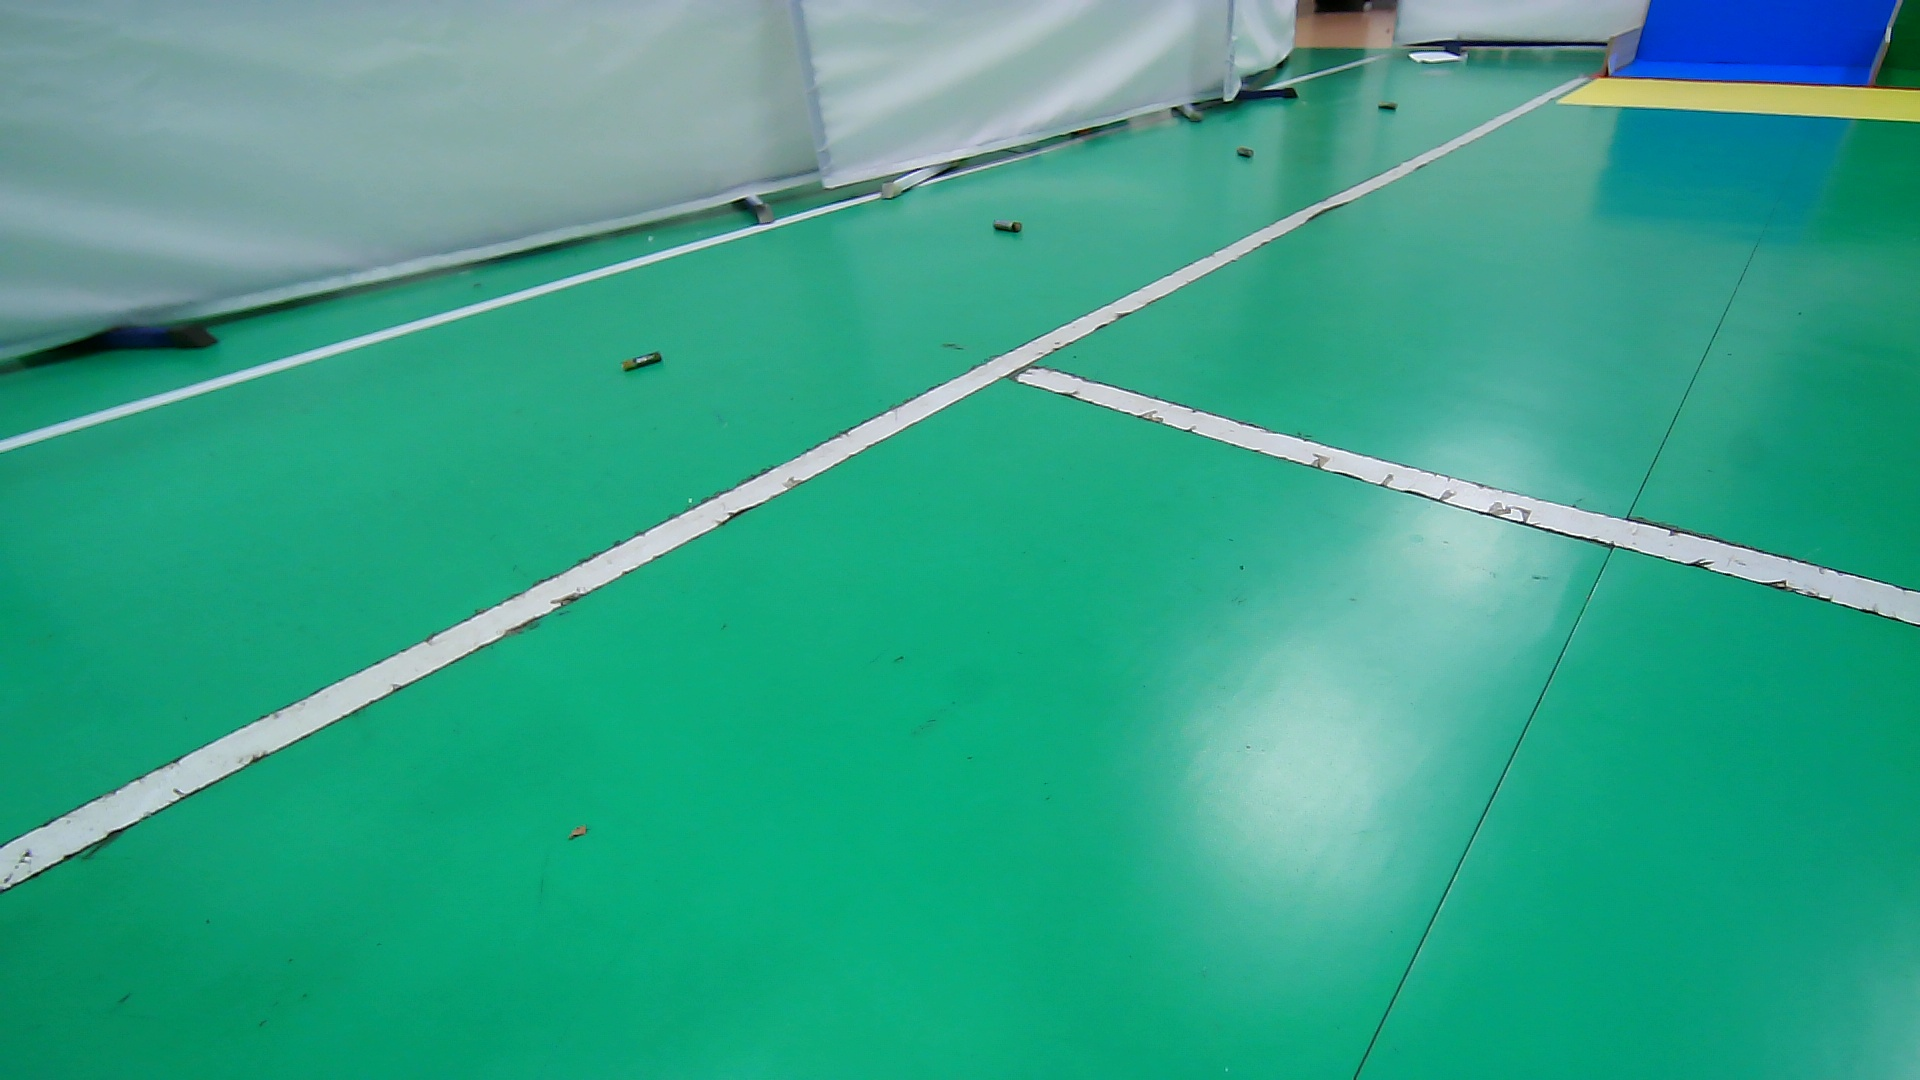battery: (604, 335, 682, 388), (975, 206, 1040, 251), (1220, 132, 1270, 174), (1364, 88, 1414, 125)
